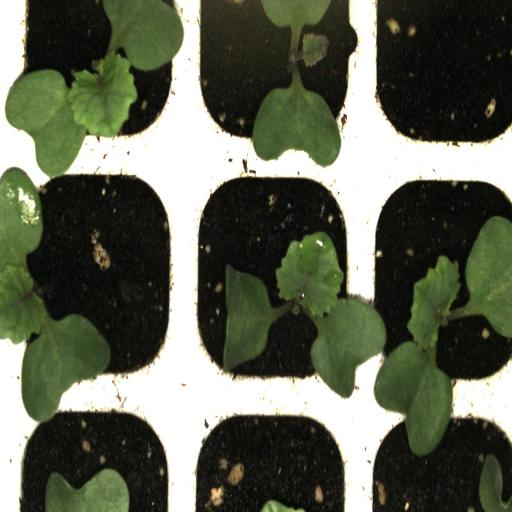Folha: (261, 0, 334, 64), (45, 468, 130, 512)
Germinacao: (184, 164, 361, 401), (2, 165, 180, 398), (363, 162, 512, 405), (6, 0, 188, 163), (185, 1, 364, 165)
